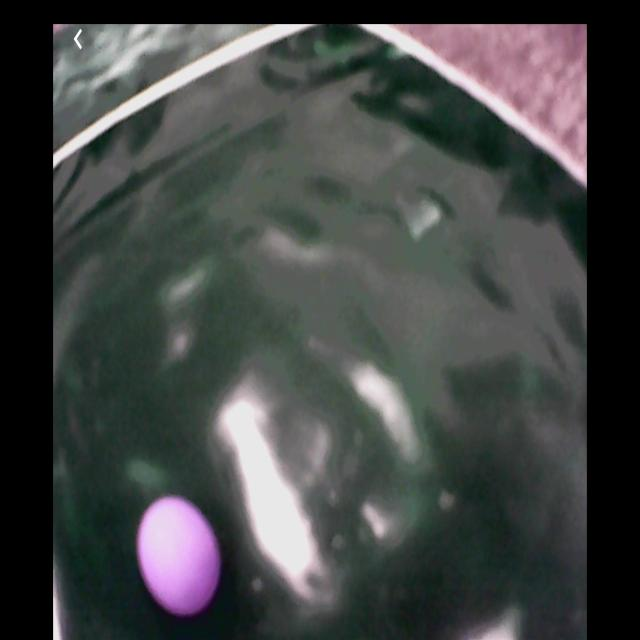ball: (137, 496, 221, 614)
